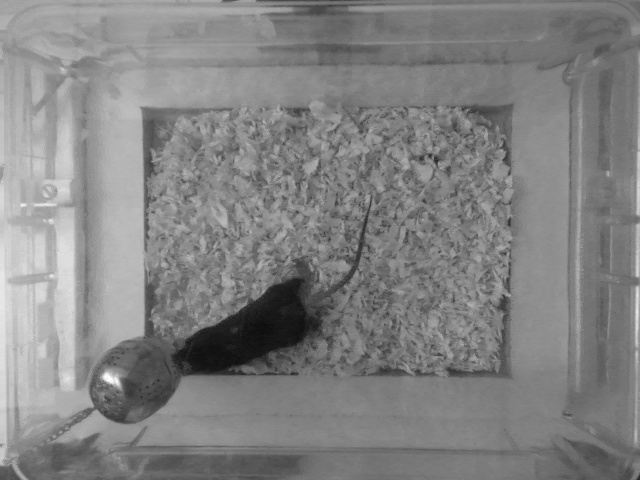mice: (166, 194, 380, 384)
